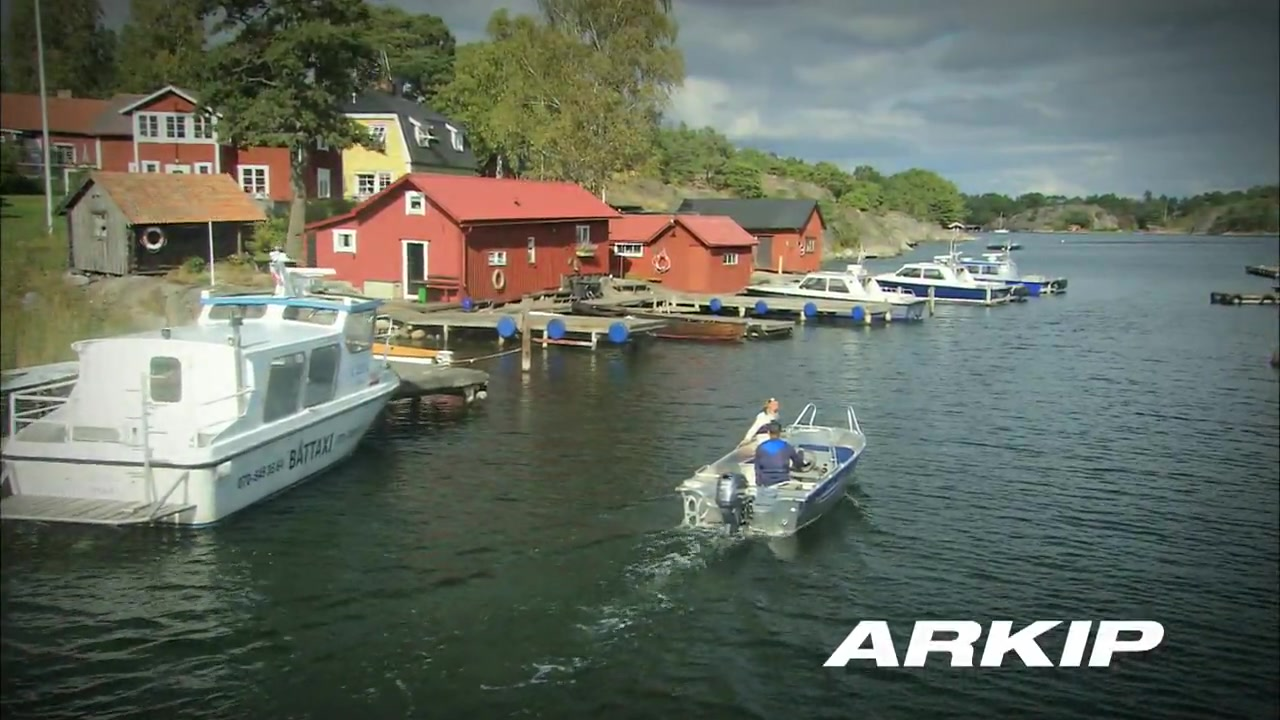boat: (676, 403, 869, 540)
